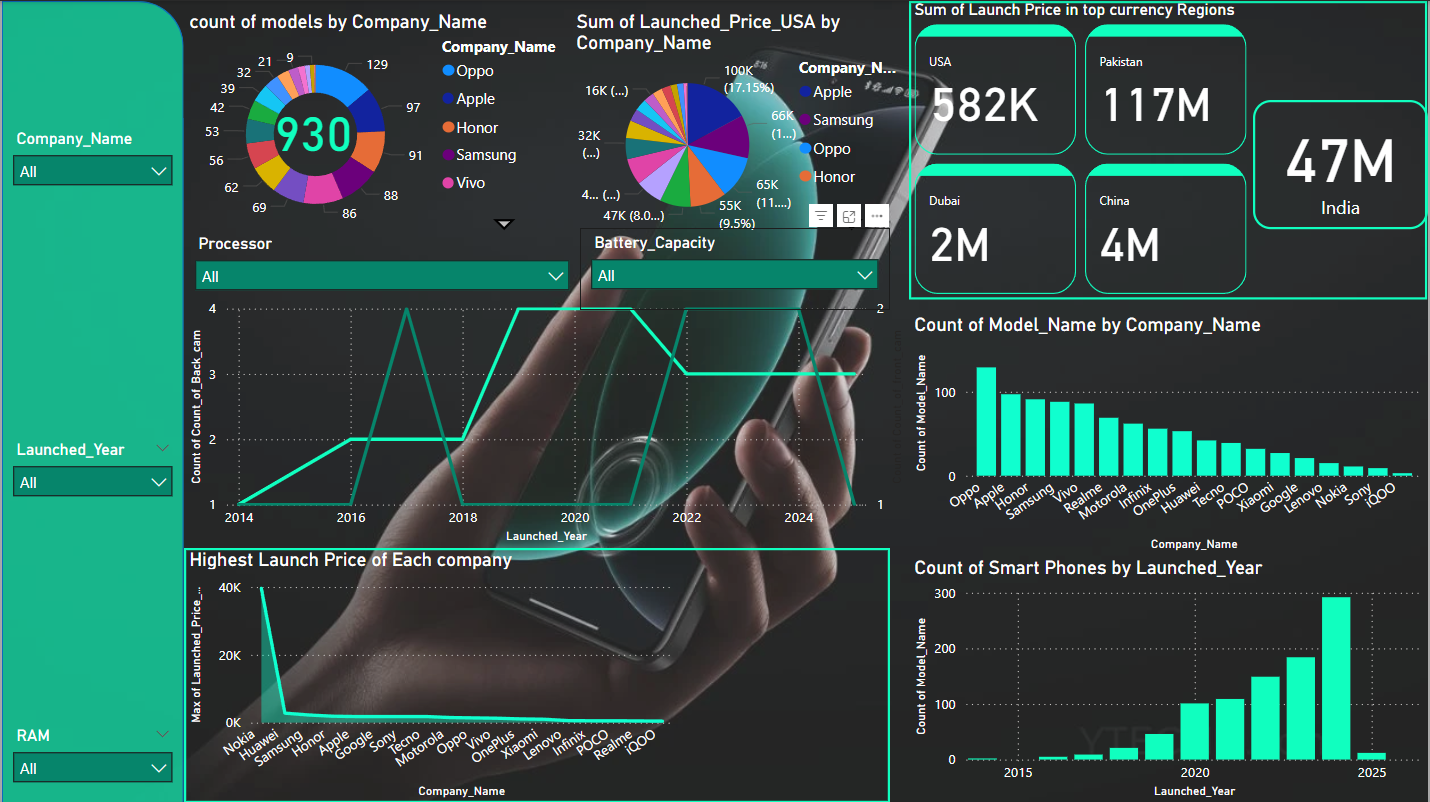

The dashboard page shown, as its layout file describes it:
{"tool":"powerbi","page":{"name":"Page 1","canvas":[1280,720],"ordinal":0},"visuals":[{"type":"columnChart","title":"Count of Smart Phones by Launched_Year","fields":{"Category":["gold mobileonedata.Launched_Year"],"Y":["CountNonNull(gold mobileonedata.Model_Name)"]},"box":[814.3,498.3,465.9,221.7],"z":0},{"type":"shape","box":[0,0,163.4,720],"z":1000},{"type":"columnChart","fields":{"Y":["CountNonNull(gold mobileonedata.Model_Name)"],"Category":["gold mobileonedata.Company_Name"]},"box":[814.3,280.1,465.9,218.2],"z":2000},{"type":"shape","box":[163.4,491.1,633.8,228.9],"z":3000},{"type":"shape","box":[814.3,0,465.9,268.4],"z":4000},{"type":"cardVisual","title":"Sum of Launch Price in top currency Regions","fields":{"Data":["Sum(gold mobileonedata.Launched_Price_USA)","Sum(gold mobileonedata.Launched_Price_Pakistan)","Sum(gold mobileonedata.Launched_Price_Dubai)","Sum(gold mobileonedata.Launched_Price_China)"]},"box":[814.3,0,308.8,268.4],"z":5000},{"type":"card","fields":{"Values":["Sum(gold mobileonedata.Launched_Price_India)"]},"box":[1123.1,88.9,157.1,115.8],"z":6000},{"type":"lineChart","fields":{"Y":["Count(gold mobileonedata.Count_of_Back_cam)"],"Category":["gold mobileonedata.Launched_Year"],"Y2":["Count(gold mobileonedata.Count_of_front_cam)"]},"box":[163.4,262.1,650.9,228.9],"z":7000},{"type":"stackedAreaChart","title":"Highest Launch Price of Each company","fields":{"Category":["gold mobileonedata.Company_Name"],"Y":["Max(gold mobileonedata.Launched_Price_USA)"]},"box":[163.4,491.1,443.5,228.9],"z":8000},{"type":"slicer","fields":{"Values":["gold mobileonedata.Company_Name"]},"box":[0,110.4,163.4,73.6],"z":9000},{"type":"slicer","fields":{"Values":["gold mobileonedata.Launched_Year"]},"box":[0,389.6,163.4,73.6],"z":10000},{"type":"slicer","fields":{"Values":["gold mobileonedata.Processor"]},"box":[163.4,204.7,356.4,73.6],"z":11000},{"type":"card","fields":{"Values":["gold mobileonedata.count of models"]},"box":[221.7,82.6,115.8,64.6],"z":12000},{"type":"donutChart","fields":{"Y":["gold mobileonedata.count of models"],"Category":["gold mobileonedata.Company_Name"]},"box":[163.4,8.1,347.4,204.7],"z":13000},{"type":"slicer","fields":{"Values":["gold mobileonedata.RAM"]},"box":[0,646.4,163.4,73.6],"z":14000},{"type":"pieChart","fields":{"Category":["gold mobileonedata.Company_Name"],"Y":["Sum(gold mobileonedata.Launched_Price_USA)"]},"box":[519,8,295,205],"z":14001},{"type":"slicer","fields":{"Values":["gold mobileonedata.Battery_Capacity"]},"box":[518.9,203.8,278.3,73.6],"z":14002}]}

Visuals, with their boxes in screenshot pixels (x1, y1, x2, y2), scaled from the page's 1280x720 canvas onto the 1430x802 screenshot:
"Count of Smart Phones by Launched_Year" columnChart: l=910, t=555, r=1429, b=801
shape: l=0, t=0, r=183, b=801
columnChart - CountNonNull(gold mobileonedata.Model_Name) x gold mobileonedata.Company_Name: l=910, t=312, r=1429, b=555
shape: l=183, t=547, r=891, b=801
shape: l=910, t=0, r=1429, b=299
"Sum of Launch Price in top currency Regions" cardVisual: l=910, t=0, r=1255, b=299
card - Sum(gold mobileonedata.Launched_Price_India): l=1255, t=99, r=1429, b=228
lineChart - Count(gold mobileonedata.Count_of_Back_cam) x gold mobileonedata.Launched_Year: l=183, t=292, r=910, b=547
"Highest Launch Price of Each company" stackedAreaChart: l=183, t=547, r=678, b=801
slicer - gold mobileonedata.Company_Name: l=0, t=123, r=183, b=205
slicer - gold mobileonedata.Launched_Year: l=0, t=434, r=183, b=516
slicer - gold mobileonedata.Processor: l=183, t=228, r=581, b=310
card - gold mobileonedata.count of models: l=248, t=92, r=377, b=164
donutChart - gold mobileonedata.count of models x gold mobileonedata.Company_Name: l=183, t=9, r=571, b=237
slicer - gold mobileonedata.RAM: l=0, t=720, r=183, b=801
pieChart - gold mobileonedata.Company_Name x Sum(gold mobileonedata.Launched_Price_USA): l=580, t=9, r=909, b=237
slicer - gold mobileonedata.Battery_Capacity: l=580, t=227, r=891, b=309
